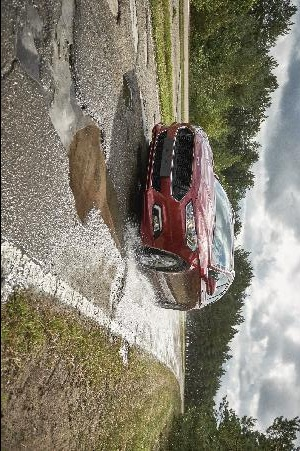pothole: (66, 100, 108, 223), (127, 0, 140, 54), (121, 72, 134, 111), (105, 0, 122, 26)
